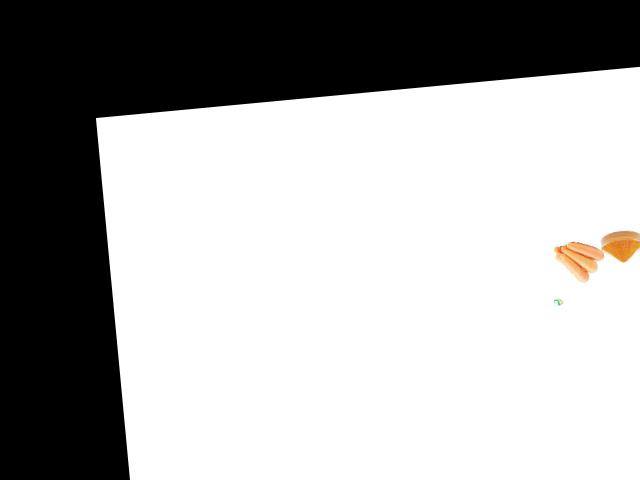carrot: (563, 235, 604, 263)
